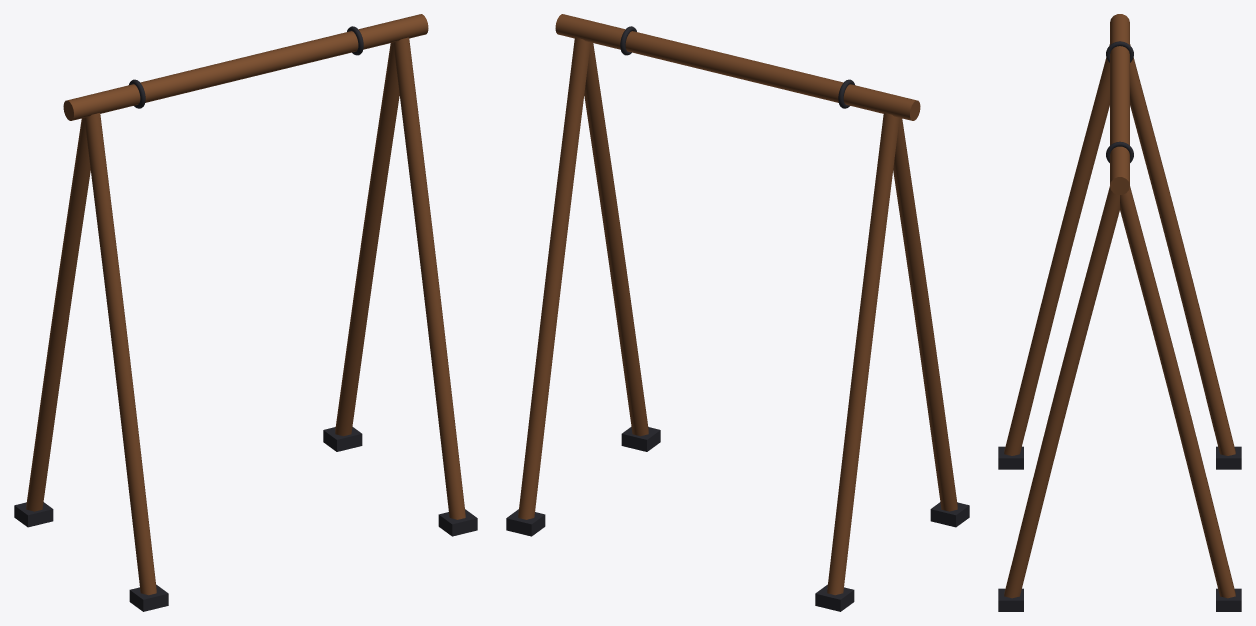
File: mia-swing.glb
The picture shows the model from 3 angles, left to right: view 1: azimuth 30°, elevation 25°; view 2: azimuth 150°, elevation 25°; view 3: azimuth 270°, elevation 25°; orthographic projection. The views are drawn at different scales.
Visible parts, largest first — view 1: Body_rust, Body_iron; view 2: Body_rust, Body_iron; view 3: Body_rust, Body_iron.
Boxes of the visible parts, x1,y1,x2,y2 form: Body_rust: [26, 14, 465, 595]; Body_iron: [14, 26, 477, 611]; Body_rust: [518, 14, 957, 595]; Body_iron: [506, 26, 969, 611]; Body_rust: [1004, 14, 1235, 598]; Body_iron: [998, 41, 1241, 611].
Bounding box in the file's own units: 1.95 × 2.47 × 1.23.
